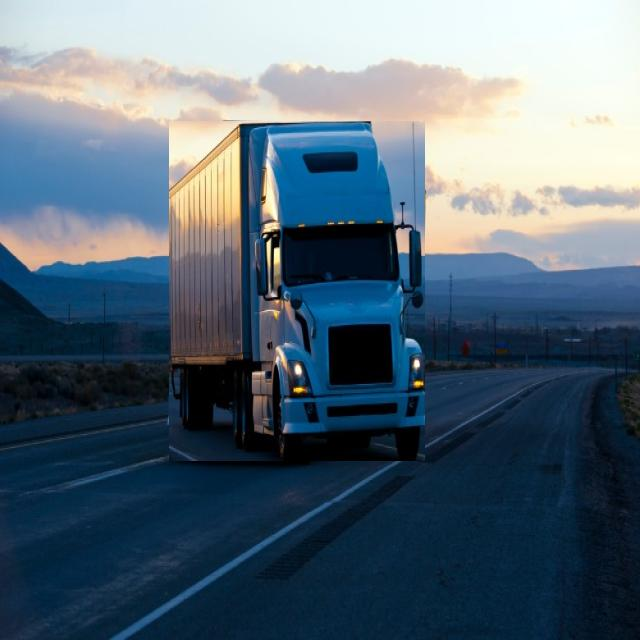truck: (169, 121, 425, 461)
